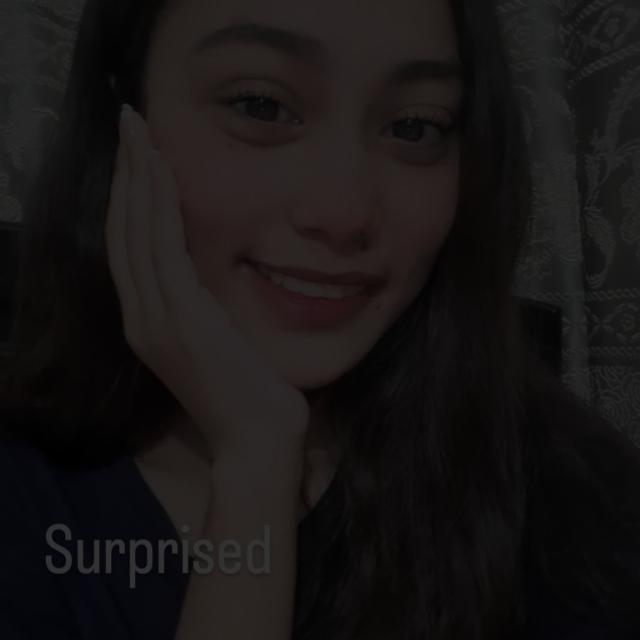Happy: (123, 17, 549, 402)
